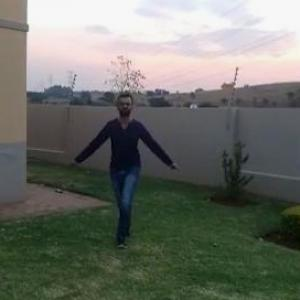land: (79, 96, 172, 227)
